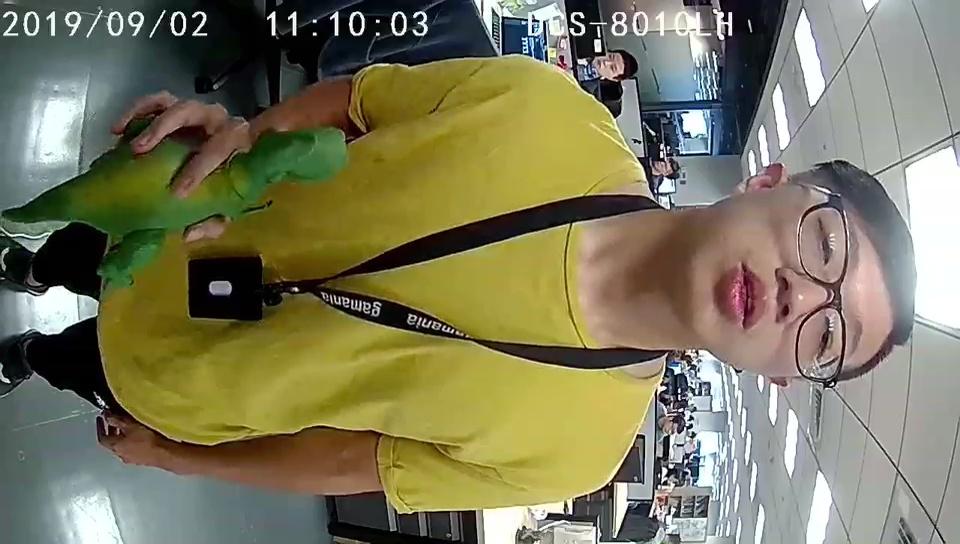rex: (98, 127, 348, 288)
